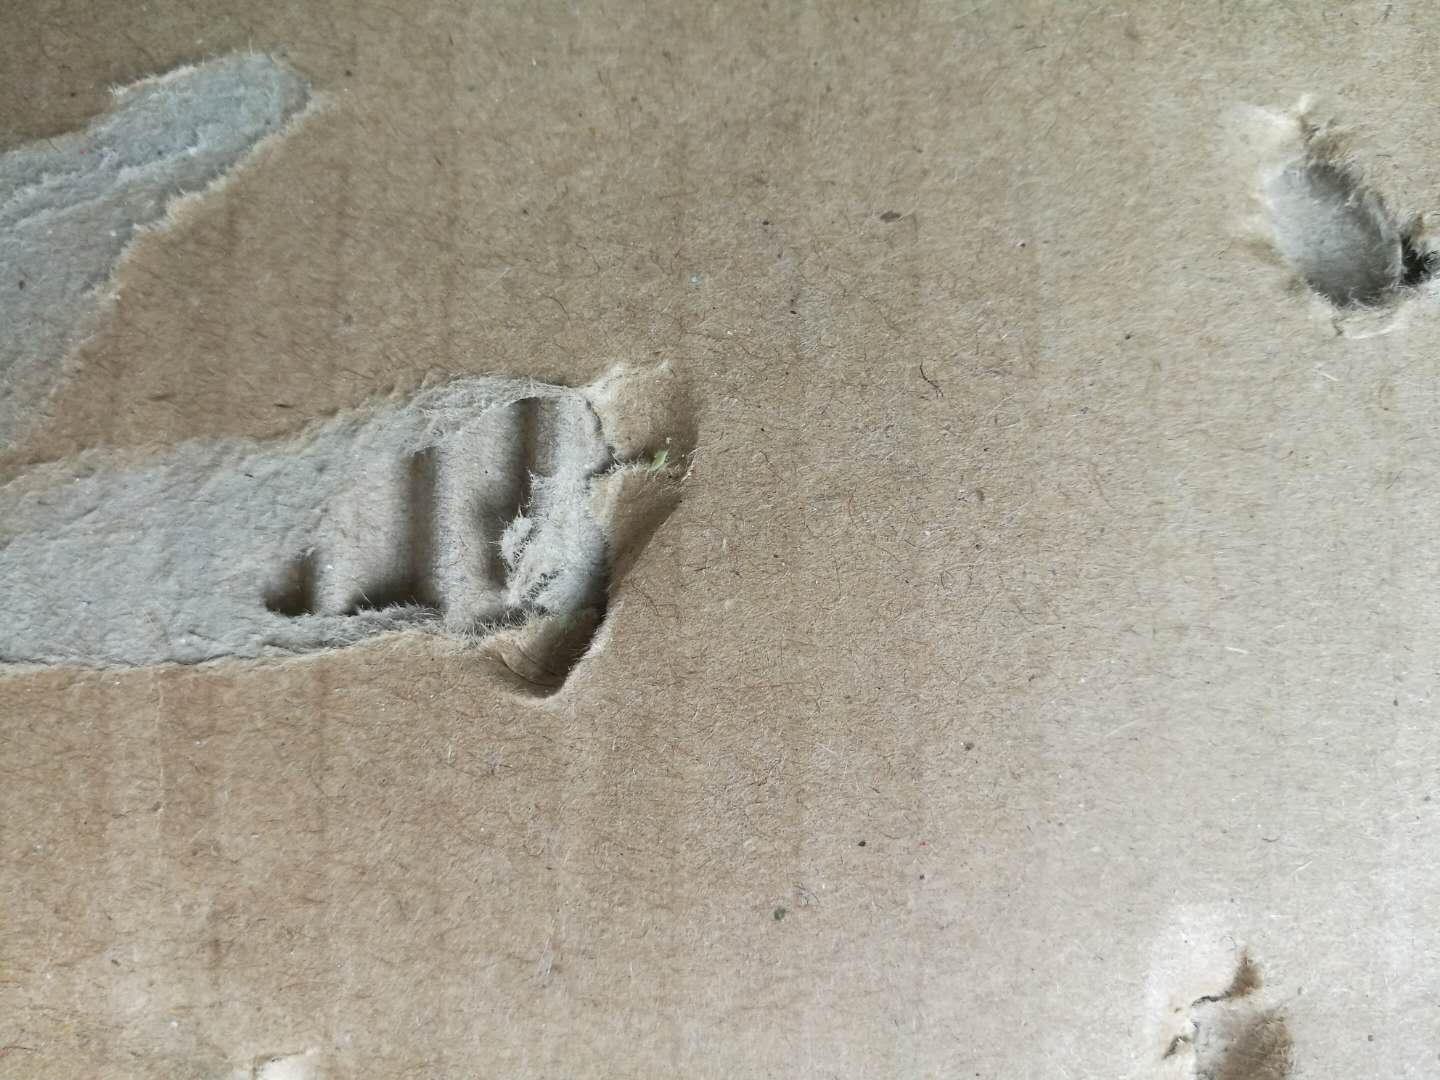defect: (3, 324, 759, 742), (1, 23, 364, 467), (1181, 59, 1440, 442), (1098, 894, 1346, 1080)
